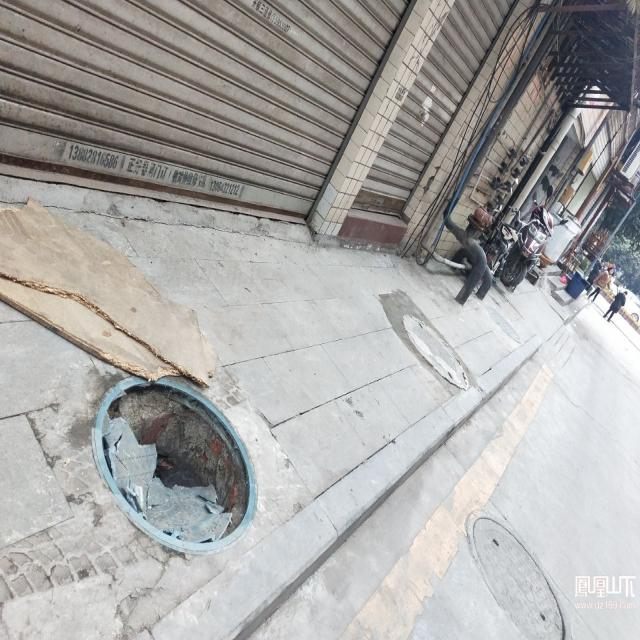manhole-cover: (90, 371, 269, 556)
